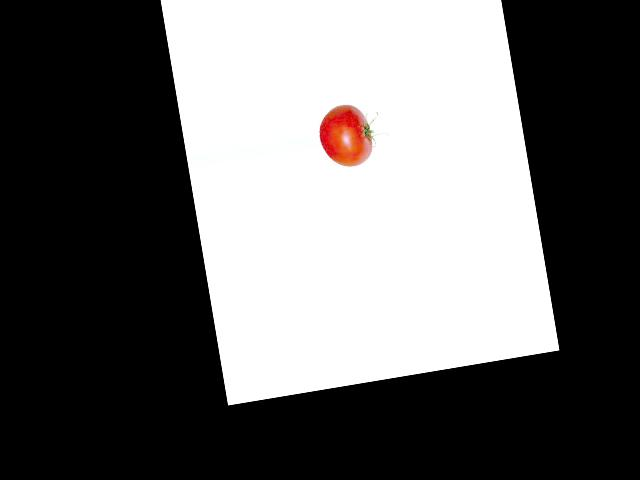tomato: (315, 102, 375, 170)
